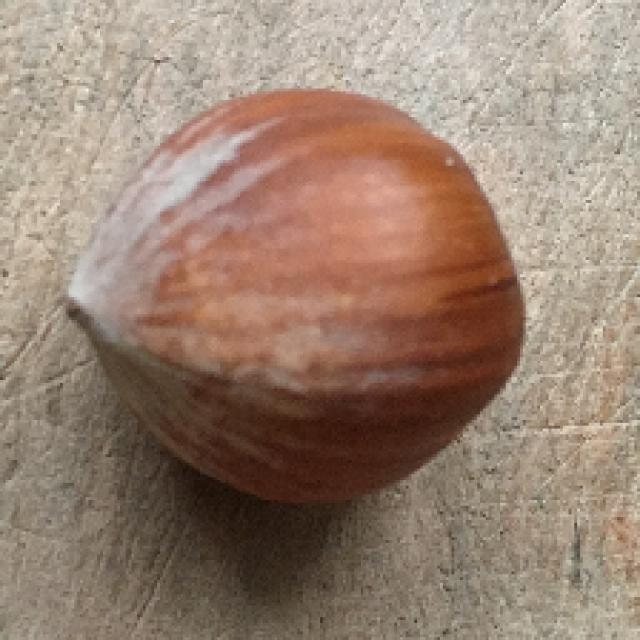qualityHazelnut: (62, 86, 526, 507)
